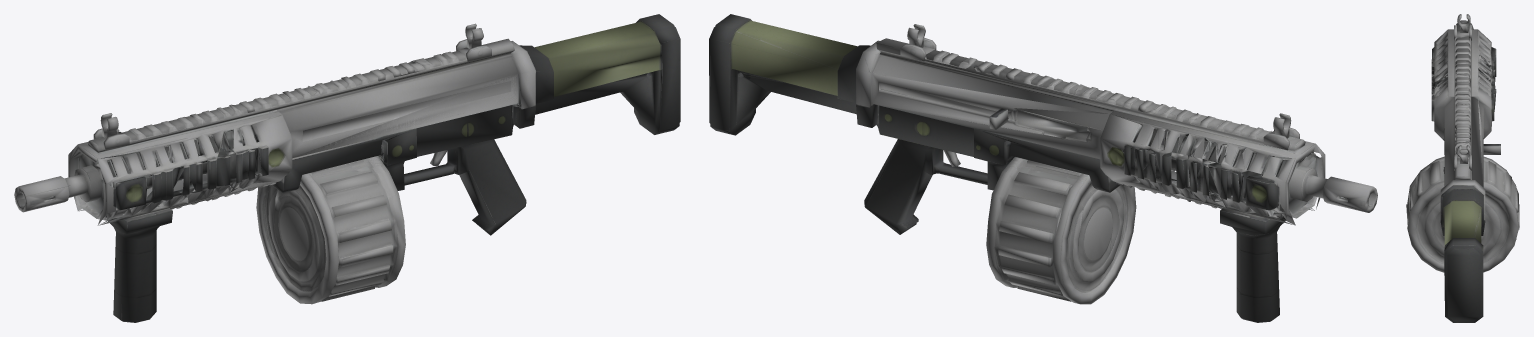
The model's file is smg_rattler.glb.
The picture shows the model from 3 angles, left to right: view 1: azimuth 30°, elevation 25°; view 2: azimuth 150°, elevation 25°; view 3: azimuth 270°, elevation 25°; orthographic projection. The views are drawn at different scales.
Bounding box in the file's own units: 0.9541 × 0.3213 × 0.1958.
Materials: 1 (1 with a texture image).
